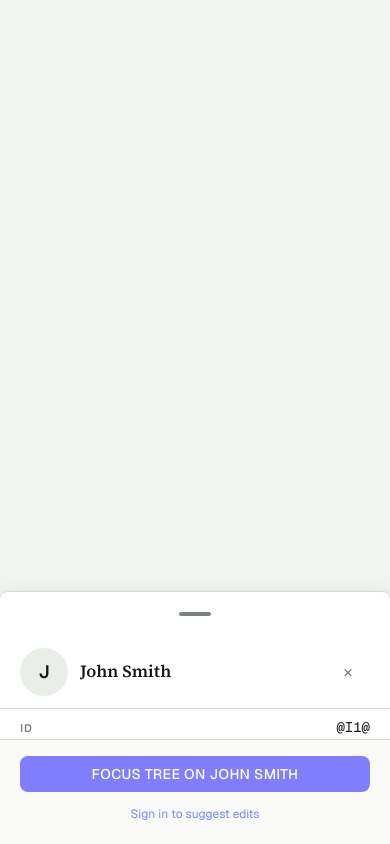
Test: PersonDrawer › Sticky bottom actions bar and mobile drag handle › tapping the drag handle again collapses the full detent back to peek
This screenshot has width=390, height=844.
Click the button with test id "drawer-drag-handle" at (195, 614), box [0,592,389,636]
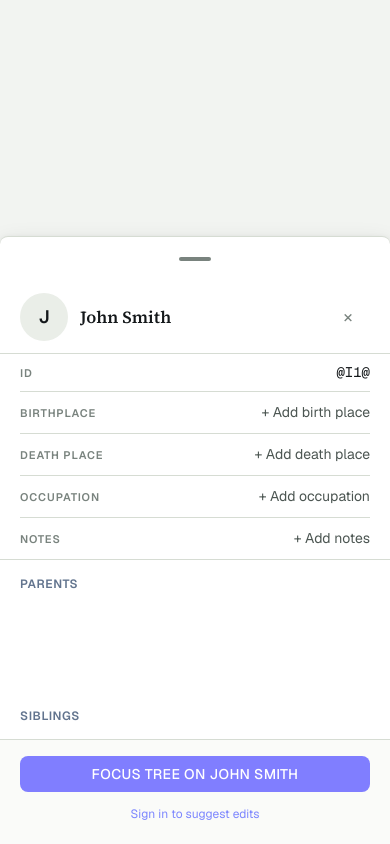
Check: the element with test id "person-drawer" has class "h-[72vh]"
Click the button with test id "drawer-drag-handle" at (195, 259), box [0,237,389,281]
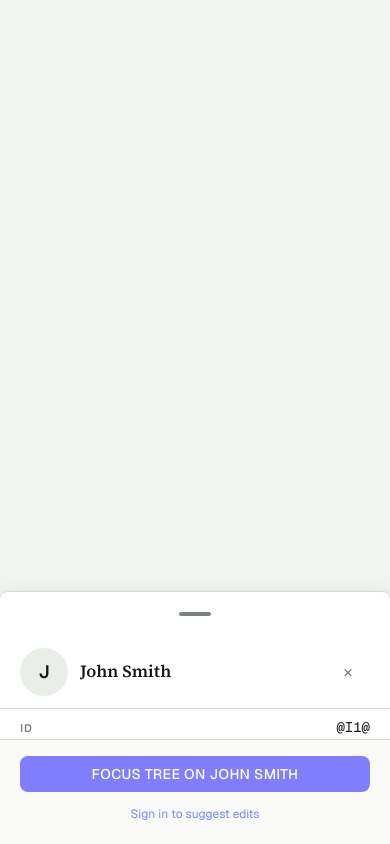
Check: the button with test id "drawer-drag-handle" is collapsed, box [0,592,389,636]
